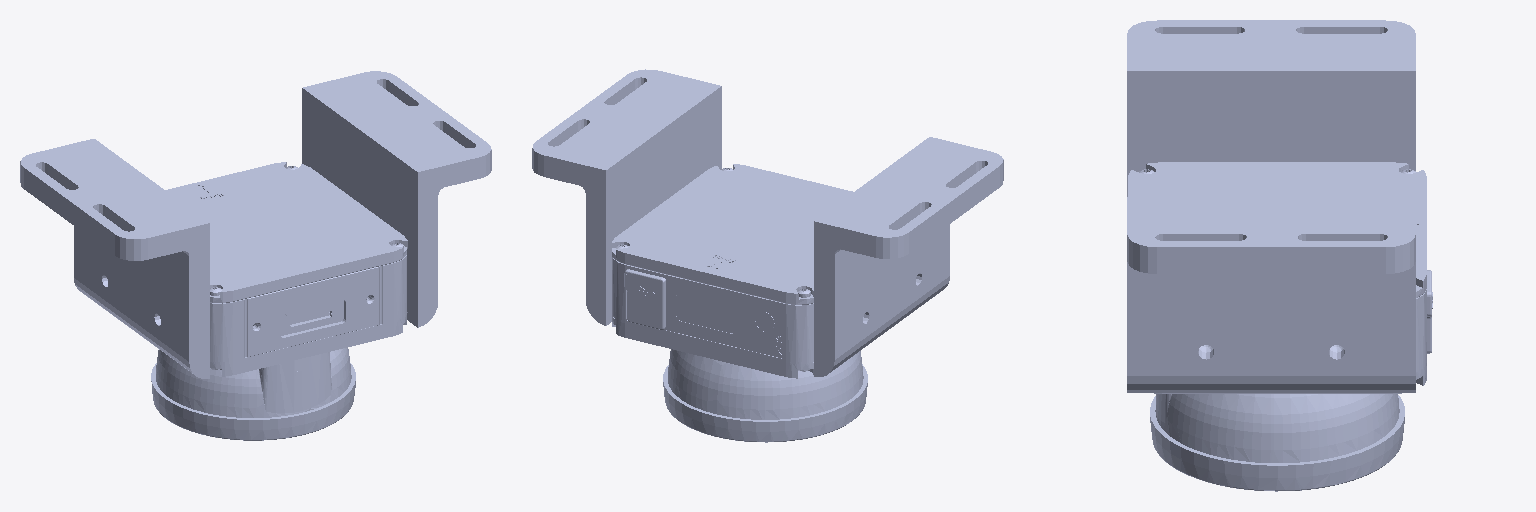
URDF robot description (mobile_base_assembly rigrig størrelse hjul v2):
<?xml version="1.0" encoding="utf-8"?>
<!-- This URDF was automatically created by SolidWorks to URDF Exporter! Originally created by [author] ([email redacted]) 
     Commit Version: 1.6.0-4-g7f85cfe  Build Version: 1.6.7995.38578
     For more information, please see http://wiki.ros.org/sw_urdf_exporter -->
<robot
  name="mobile_base_assembly rigrig størrelse hjul v2">
  <link
    name="base_link">
    <inertial>
      <origin
        xyz="-0.00247544569007708 -0.188726144033008 -0.00331828982085067"
        rpy="0 0 0" />
      <mass
        value="7.25669374827586" />
      <inertia
        ixx="0.0458578206362989"
        ixy="2.77322922062842E-06"
        ixz="3.27411439344336E-05"
        iyy="0.0218763762344693"
        iyz="0.000848533678871294"
        izz="0.054377249546969" />
    </inertial>
    <visual>
      <origin
        xyz="0 0 0"
        rpy="0 0 0" />
      <geometry>
        <mesh
          filename="package://mobile_base_assembly rigrig størrelse hjul v2/meshes/base_link.STL" />
      </geometry>
      <material
        name="">
        <color
          rgba="0 0 0 1" />
      </material>
    </visual>
    <collision>
      <origin
        xyz="0 0 0"
        rpy="0 0 0" />
      <geometry>
        <mesh
          filename="package://mobile_base_assembly rigrig størrelse hjul v2/meshes/base_link.STL" />
      </geometry>
    </collision>
  </link>
  <link
    name="left_wheel">
    <inertial>
      <origin
        xyz="0 0 1.38777878078145E-17"
        rpy="0 0 0" />
      <mass
        value="4.46342151734513" />
      <inertia
        ixx="0.0214375253295535"
        ixy="-9.27083006375532E-19"
        ixz="-7.97975622392489E-20"
        iyy="0.0214375253295535"
        iyz="-1.43995601033231E-20"
        izz="0.0375707416693319" />
    </inertial>
    <visual>
      <origin
        xyz="0 0 0"
        rpy="0 0 0" />
      <geometry>
        <mesh
          filename="package://mobile_base_assembly rigrig størrelse hjul v2/meshes/left_wheel.STL" />
      </geometry>
      <material
        name="">
        <color
          rgba="0.792156862745098 0.819607843137255 0.933333333333333 1" />
      </material>
    </visual>
    <collision>
      <origin
        xyz="0 0 0"
        rpy="0 0 0" />
      <geometry>
        <mesh
          filename="package://mobile_base_assembly rigrig størrelse hjul v2/meshes/left_wheel.STL" />
      </geometry>
    </collision>
  </link>
  <joint
    name="left_wheel_joint"
    type="continuous">
    <origin
      xyz="-0.137 0 0"
      rpy="1.5708 0 1.5708" />
    <parent
      link="base_link" />
    <child
      link="left_wheel" />
    <axis
      xyz="0 0 1" />
  </joint>
  <link
    name="right_wheel">
    <inertial>
      <origin
        xyz="-1.38777878078145E-17 -5.55111512312578E-17 2.77555756156289E-17"
        rpy="0 0 0" />
      <mass
        value="4.46342151734513" />
      <inertia
        ixx="0.0214375253295535"
        ixy="-2.9042607713123E-19"
        ixz="-5.26009852170224E-19"
        iyy="0.0214375253295535"
        iyz="5.9105590148048E-20"
        izz="0.0375707416693319" />
    </inertial>
    <visual>
      <origin
        xyz="0 0 0"
        rpy="0 0 0" />
      <geometry>
        <mesh
          filename="package://mobile_base_assembly rigrig størrelse hjul v2/meshes/right_wheel.STL" />
      </geometry>
      <material
        name="">
        <color
          rgba="0.792156862745098 0.819607843137255 0.933333333333333 1" />
      </material>
    </visual>
    <collision>
      <origin
        xyz="0 0 0"
        rpy="0 0 0" />
      <geometry>
        <mesh
          filename="package://mobile_base_assembly rigrig størrelse hjul v2/meshes/right_wheel.STL" />
      </geometry>
    </collision>
  </link>
  <joint
    name="right_wheel_joint"
    type="continuous">
    <origin
      xyz="0.132 0 0"
      rpy="1.5708 0 1.5708" />
    <parent
      link="base_link" />
    <child
      link="right_wheel" />
    <axis
      xyz="0 0 1" />
  </joint>
  <link
    name="camera">
    <inertial>
      <origin
        xyz="-0.00631546895414616 -0.00352733963193702 -0.0410769894927615"
        rpy="0 0 0" />
      <mass
        value="0.434157647657648" />
      <inertia
        ixx="0.000312761614867949"
        ixy="-3.3538929303675E-08"
        ixz="-1.13015683426856E-05"
        iyy="0.000525827528394202"
        iyz="-1.47821575025501E-05"
        izz="0.000675087918007601" />
    </inertial>
    <visual>
      <origin
        xyz="0 0 0"
        rpy="0 0 0" />
      <geometry>
        <mesh
          filename="package://mobile_base_assembly rigrig størrelse hjul v2/meshes/camera.STL" />
      </geometry>
      <material
        name="">
        <color
          rgba="0.792156862745098 0.819607843137255 0.933333333333333 1" />
      </material>
    </visual>
    <collision>
      <origin
        xyz="0 0 0"
        rpy="0 0 0" />
      <geometry>
        <mesh
          filename="package://mobile_base_assembly rigrig størrelse hjul v2/meshes/camera.STL" />
      </geometry>
    </collision>
  </link>
  <joint
    name="camera_joint"
    type="fixed">
    <origin
      xyz="-0.0022996 0.27022 0.04328"
      rpy="2.3562 0 -3.1415" />
    <parent
      link="base_link" />
    <child
      link="camera" />
    <axis
      xyz="0 0 0" />
  </joint>
  <link
    name="laser">
    <inertial>
      <origin
        xyz="-0.000537849970747462 3.24297391453357E-05 -0.0304099645492067"
        rpy="0 0 0" />
      <mass
        value="0.77572976548165" />
      <inertia
        ixx="0.000813219708307499"
        ixy="-1.32636836280717E-06"
        ixz="1.59543719347388E-06"
        iyy="0.000937718836199801"
        iyz="3.80088779512422E-07"
        izz="0.000971728129759389" />
    </inertial>
    <visual>
      <origin
        xyz="0 0 0"
        rpy="0 0 0" />
      <geometry>
        <mesh
          filename="package://mobile_base_assembly rigrig størrelse hjul v2/meshes/laser.STL" />
      </geometry>
      <material
        name="">
        <color
          rgba="0.792156862745098 0.819607843137255 0.933333333333333 1" />
      </material>
    </visual>
    <collision>
      <origin
        xyz="0 0 0"
        rpy="0 0 0" />
      <geometry>
        <mesh
          filename="package://mobile_base_assembly rigrig størrelse hjul v2/meshes/laser.STL" />
      </geometry>
    </collision>
  </link>
  <joint
    name="laser_joint"
    type="fixed">
    <origin
      xyz="-0.0024966 0.13302 -0.025212"
      rpy="-3.1416 0 1.5708" />
    <parent
      link="base_link" />
    <child
      link="laser" />
    <axis
      xyz="0 0 0" />
  </joint>
</robot>

--- Facts derived from the render (not from the file) ---
Views: 3 orthographic renders of the robot side by side, from view 1: azimuth 30°, elevation 25°; view 2: azimuth 150°, elevation 25°; view 3: azimuth 270°, elevation 25°.
Model mobile_base_assembly rigrig størrelse hjul v2 with 5 links and 4 joints (2 continuous, 2 fixed), rooted at base_link, posed every joint at zero.
Links seen in each view (by area): view 1: laser; view 2: laser; view 3: laser.
Link boxes in pixels (box(x1,y1,x2,y2)): laser: box(20, 71, 491, 440); laser: box(532, 69, 1003, 442); laser: box(1127, 20, 1432, 491).
Size in the robot's own frame: 0.1806 by 0.1027 by 0.1142 metres.
Meshes: 5 distinct files referenced, 1 mesh visuals loaded (1 binary STL); not drawn: 4 (reference not matched to a file when rendering).